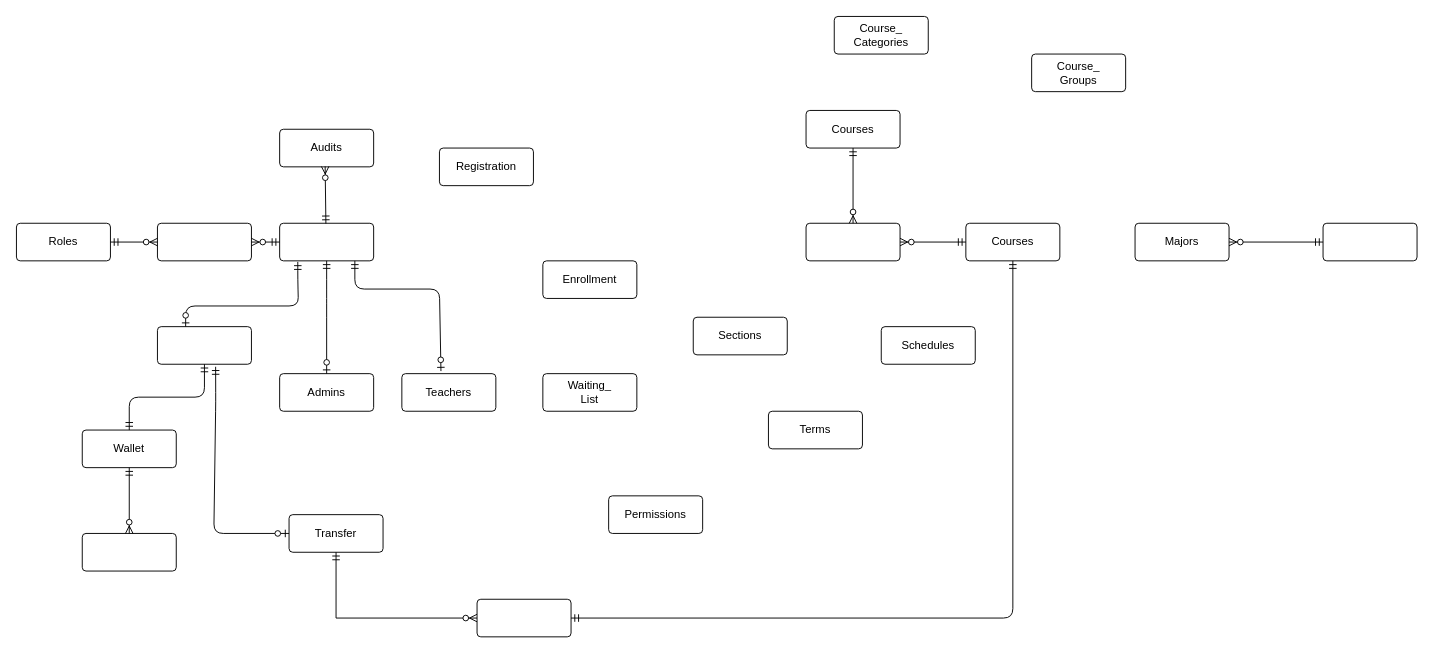
Image size: 1434x653. Some labels were removed from this diagram. Each missing label, with the box of its shape:
Faculties: (1322, 222, 1417, 261)
Prequisities: (805, 222, 900, 261)
Students: (157, 326, 251, 364)
Transfered_ Subjects: (476, 598, 571, 637)
User_Roles: (157, 222, 251, 261)
Users: (279, 222, 374, 261)
Wallet_ Transacations: (81, 533, 176, 571)
